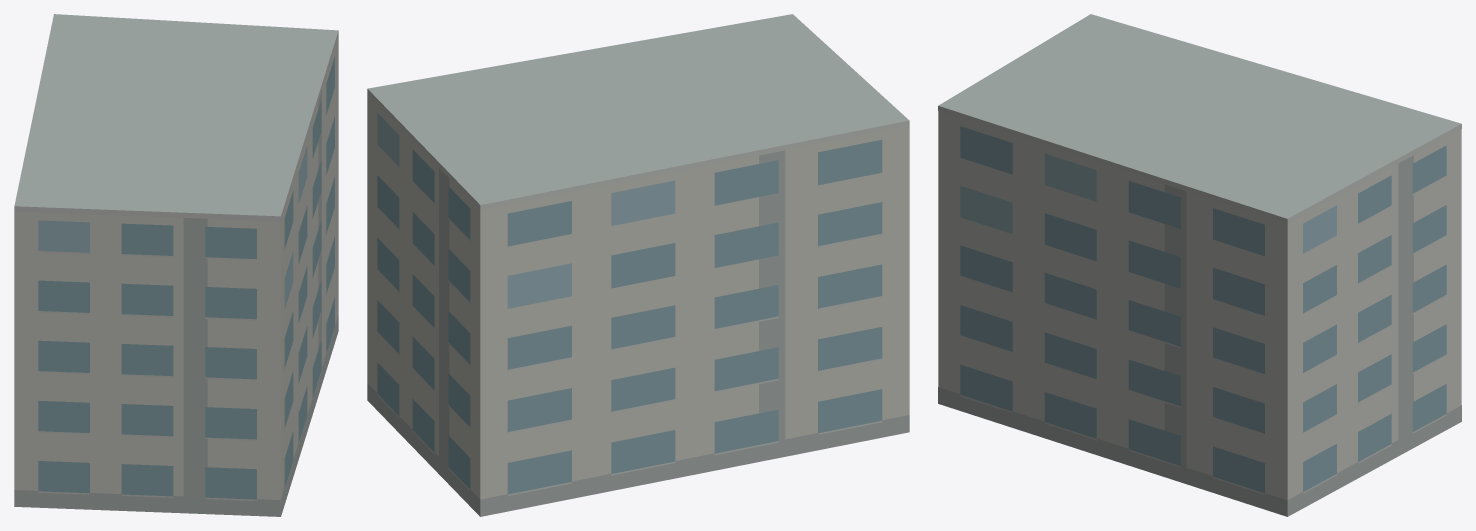
The model's file is survey-upis-32791005.glb.
3 renders of one model, left to right at view 1: azimuth 30°, elevation 25°; view 2: azimuth 150°, elevation 25°; view 3: azimuth 270°, elevation 25°, orthographic. The views are drawn at different scales.
Parts seen in each view (by area): view 1: survey-upis-32791005.tmp; view 2: survey-upis-32791005.tmp; view 3: survey-upis-32791005.tmp.
Boxes of the visible parts, <box> form: survey-upis-32791005.tmp: <box>14,14,338,516</box>; survey-upis-32791005.tmp: <box>367,14,909,516</box>; survey-upis-32791005.tmp: <box>938,14,1461,516</box>.
Bounding box in the file's own units: 20.94 × 14.2 × 22.62.
